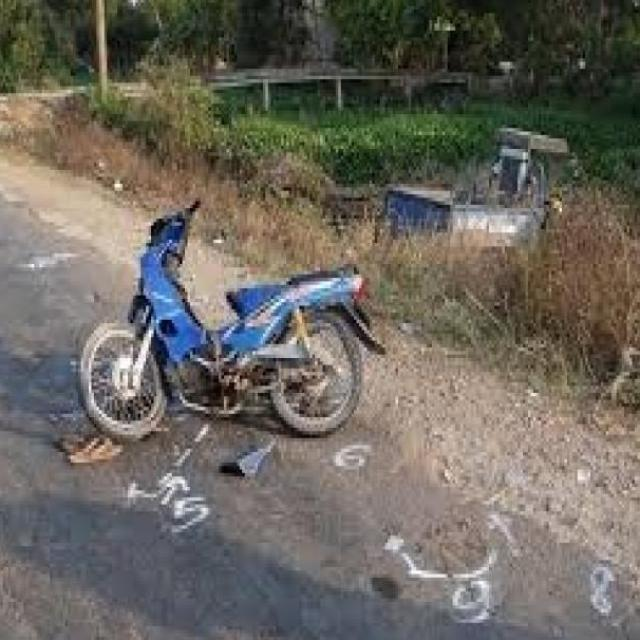accident: (69, 147, 391, 502)
